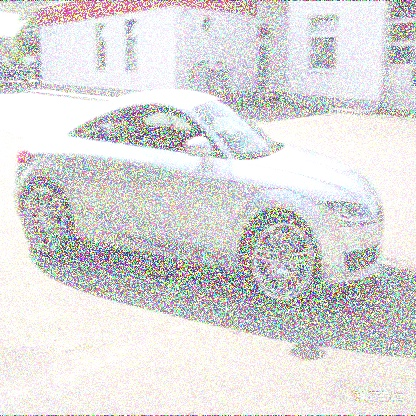Vehicle: (16, 85, 384, 306)
